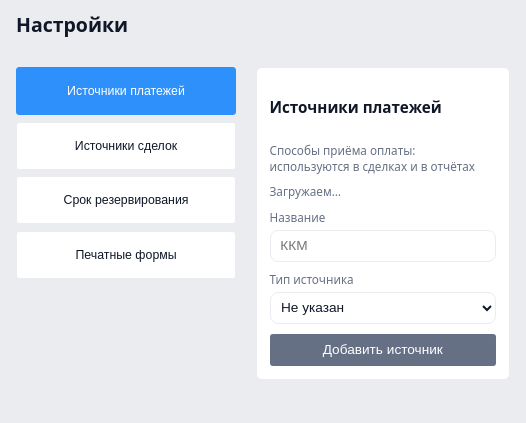
Test: срок резервирования в настройках › не смогли узнать — сказано почему, а не вечное «Загружаем…»
Click the button "Срок резервирования".
click(126, 200)  # box [16,176,236,224]
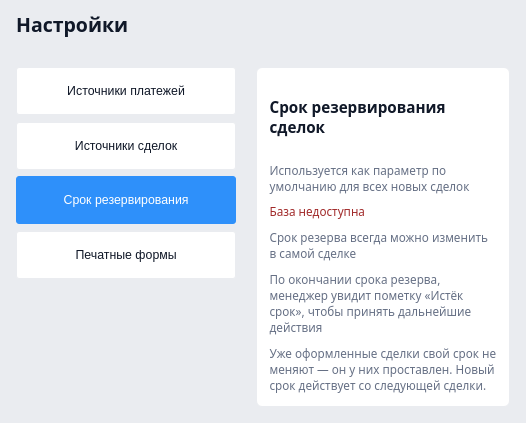
Result: the text "База недоступна" is shown at [270,203,365,219]
Result: the text "Загружаем…" is gone
